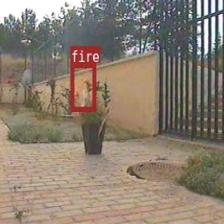fire: (70, 62, 96, 111)
